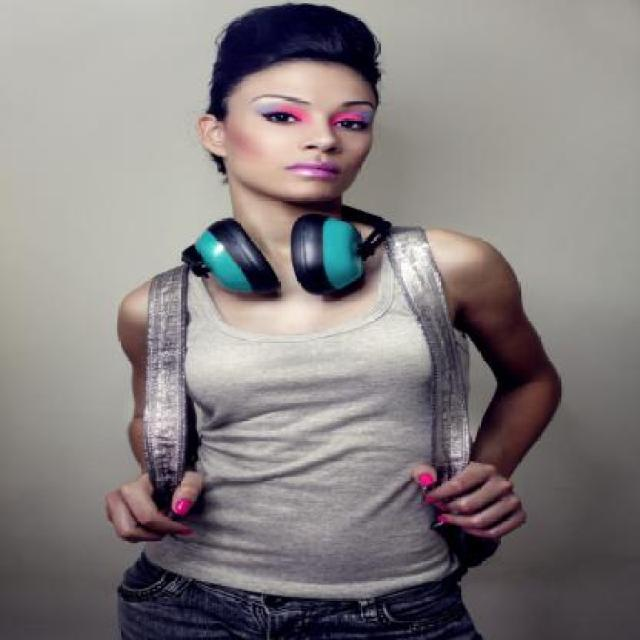earphone: (182, 158, 416, 308)
